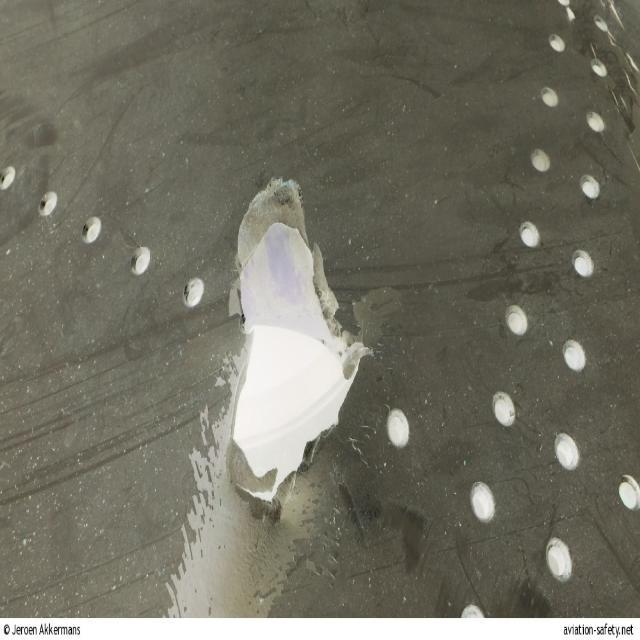crack: (222, 182, 373, 507)
